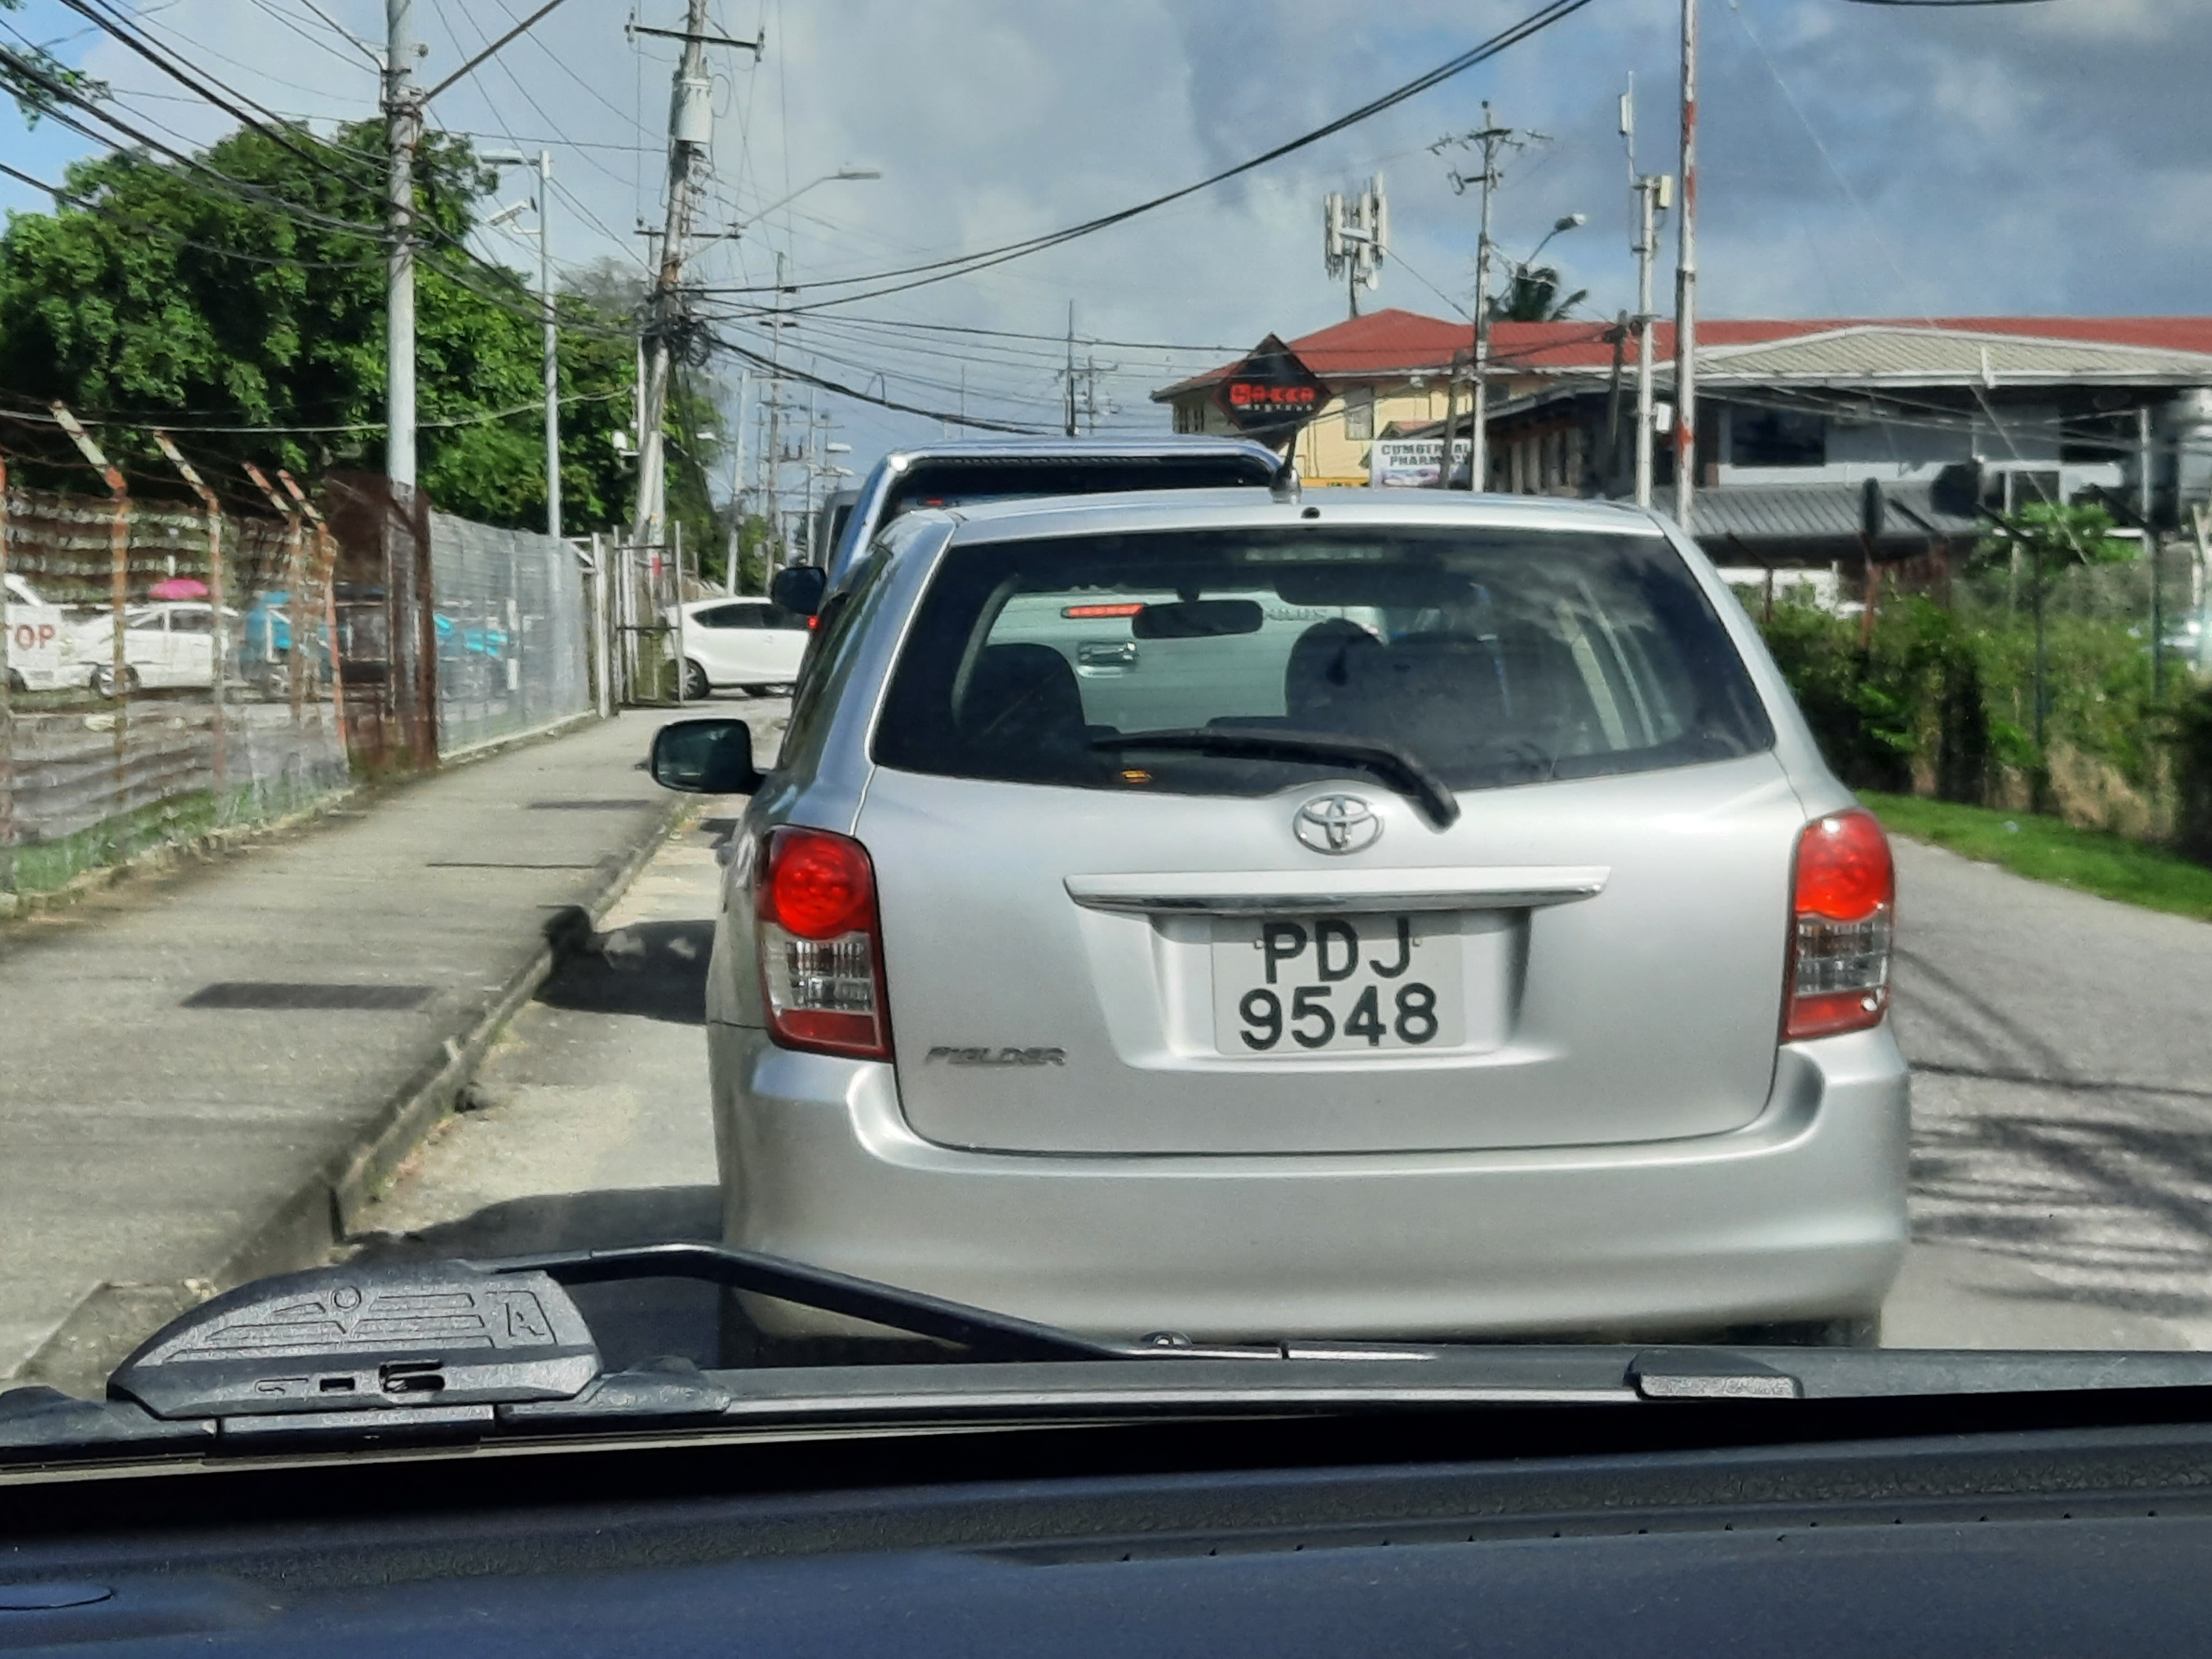License-Plate: (1206, 896, 1472, 1061)
